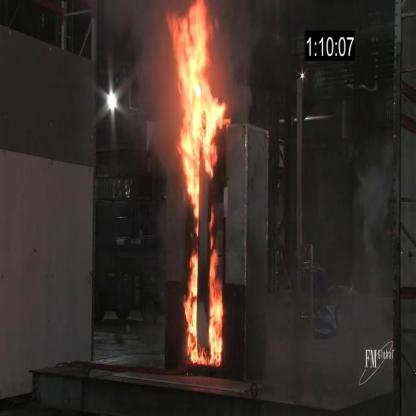fire: (160, 1, 236, 376)
